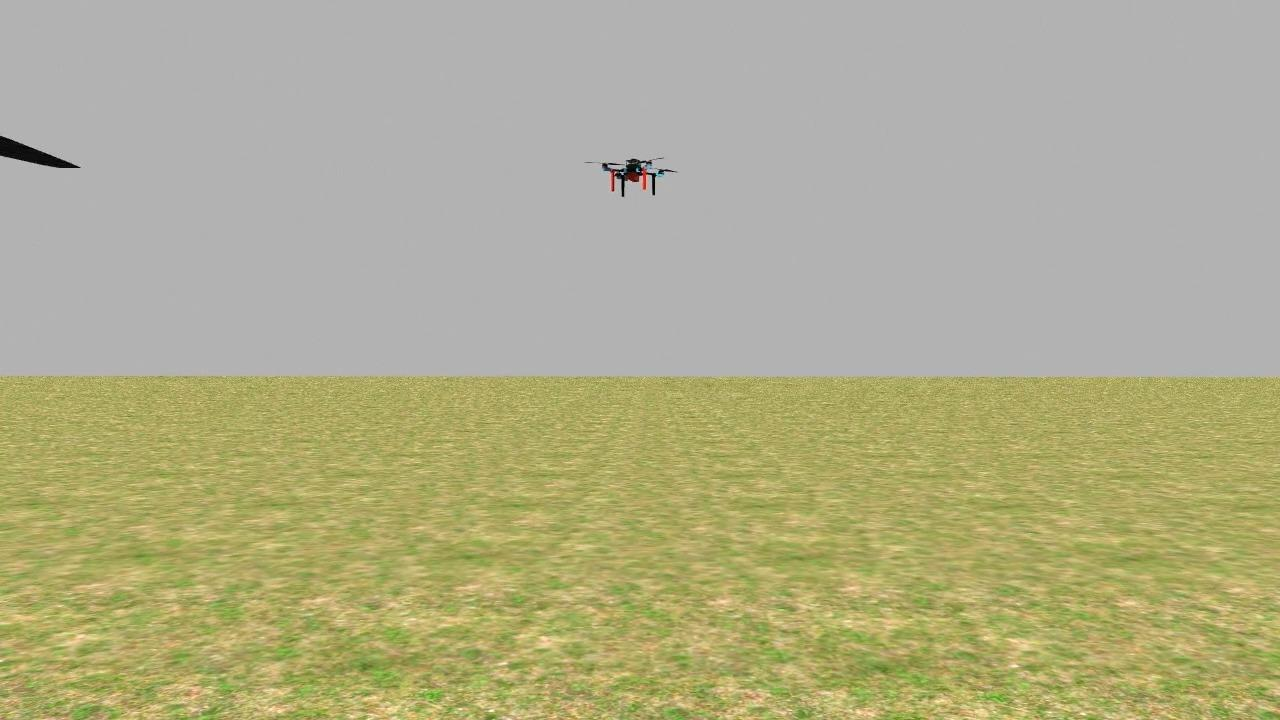UAV: (593, 149, 677, 200)
